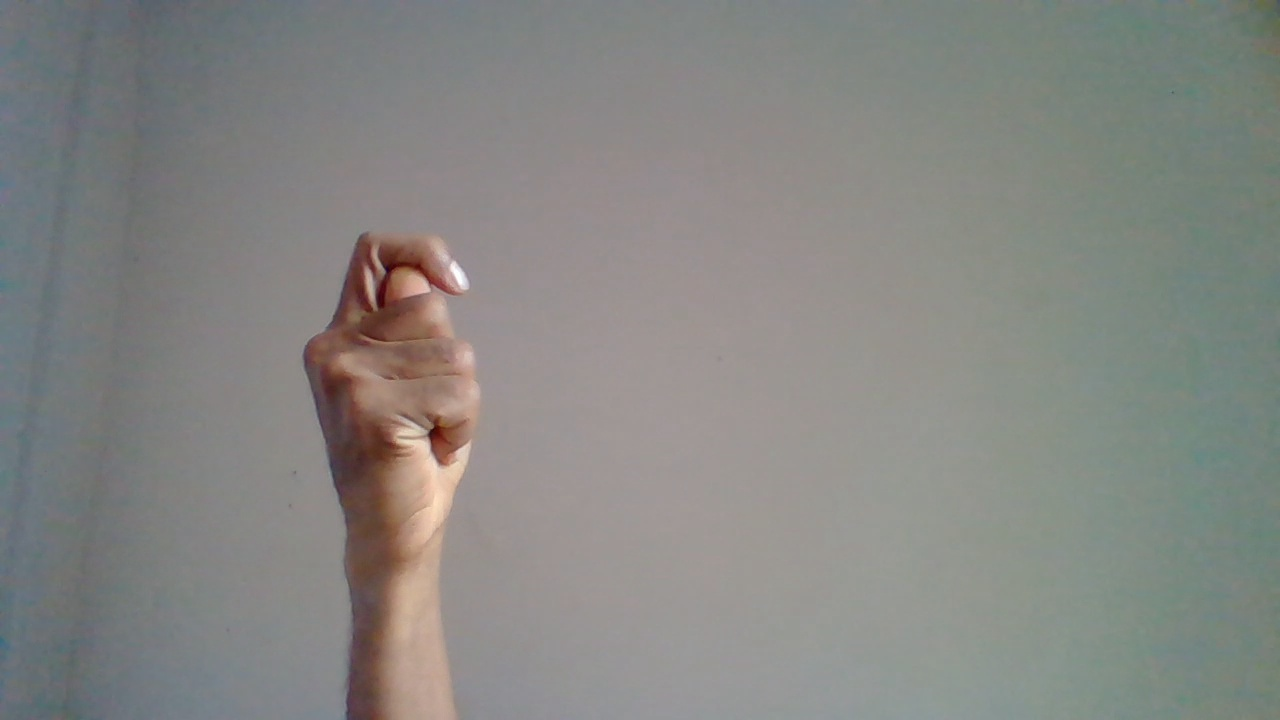che: (302, 227, 488, 683)
